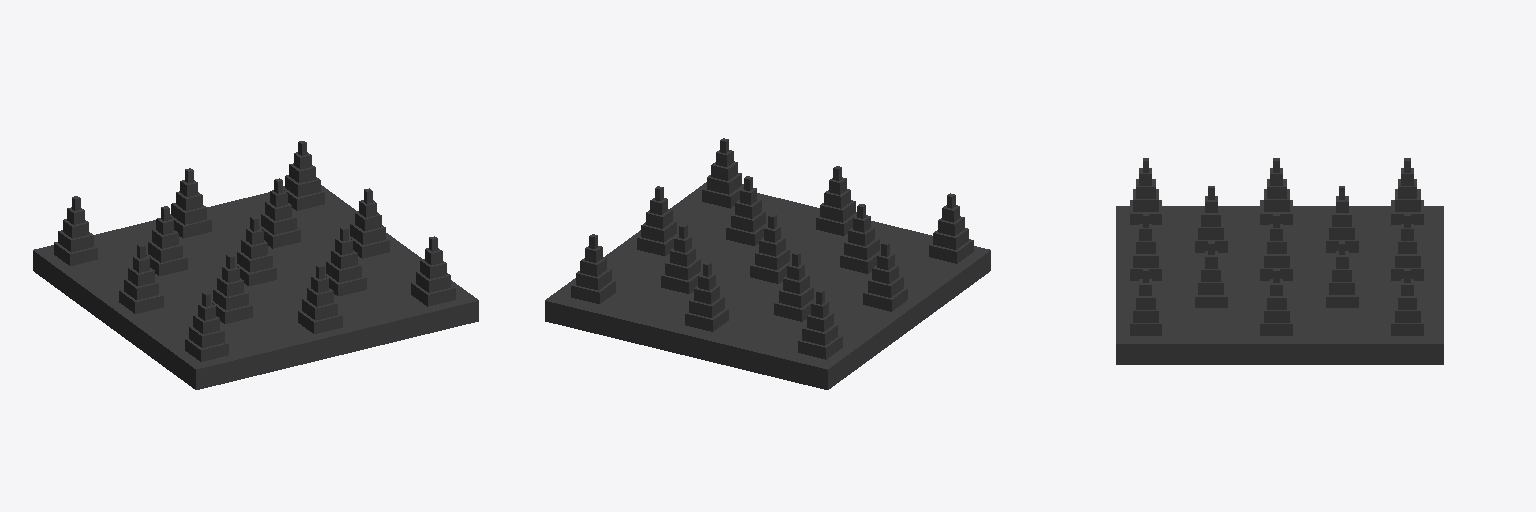
The picture shows the model from 3 angles: view 1: azimuth 30°, elevation 25°; view 2: azimuth 150°, elevation 25°; view 3: azimuth 270°, elevation 25°; orthographic projection.
Parts seen in each view (by area): view 1: Thorn; view 2: Thorn; view 3: Thorn.
Boxes of the visible parts, x1=… form: Thorn: x1=33, y1=141, x2=478, y2=389; Thorn: x1=545, y1=138, x2=990, y2=389; Thorn: x1=1116, y1=158, x2=1443, y2=364.
Size of the model in its own units: 10 by 2.7 by 10.
Materials: 1 (1 with a texture image).